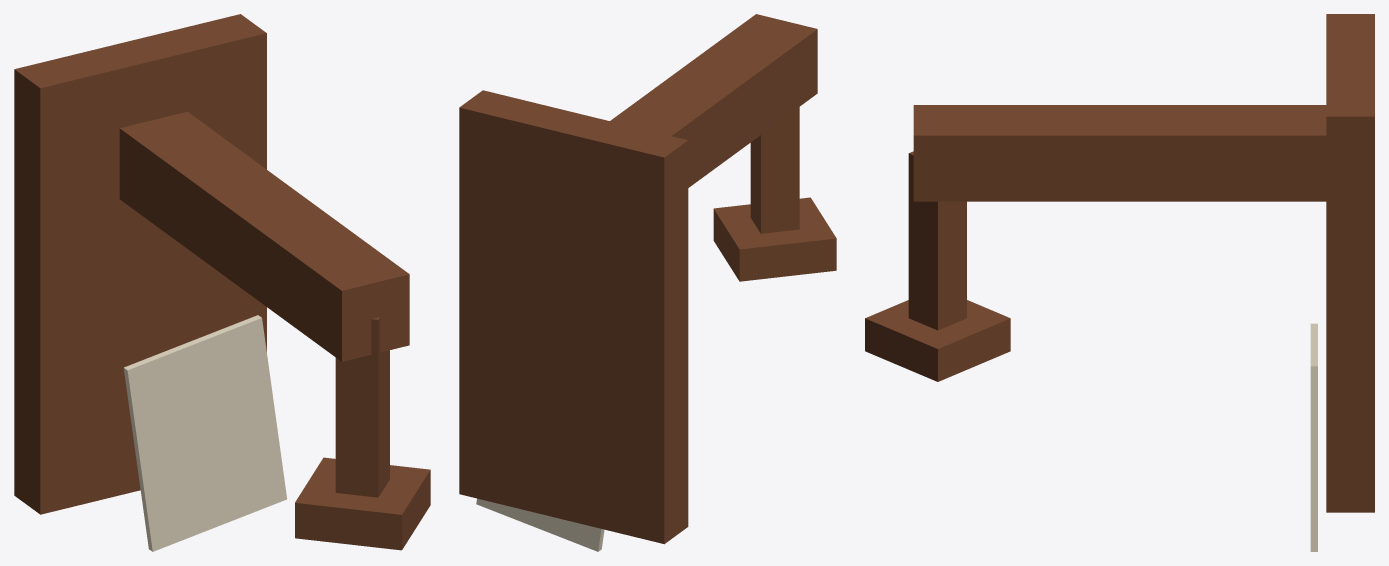
File: waylamp_hook.glb
3 views of the same model, side by side, from view 1: azimuth 30°, elevation 25°; view 2: azimuth 150°, elevation 25°; view 3: azimuth 270°, elevation 25° (orthographic). The views are drawn at different scales.
Visible parts, largest first — view 1: waylamp_hook; view 2: waylamp_hook; view 3: waylamp_hook.
Boxes of the visible parts, <box> form: waylamp_hook: <box>14,14,430,551</box>; waylamp_hook: <box>459,14,836,551</box>; waylamp_hook: <box>865,14,1374,551</box>.
Bounding box in the file's own units: 0.1053 × 0.2038 × 0.21.
